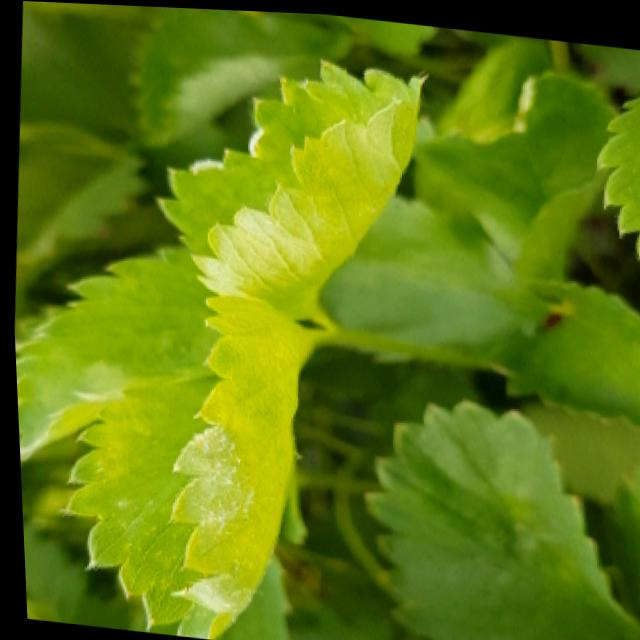Powdery Mildew Leaf: (55, 293, 321, 638), (151, 53, 427, 318)
